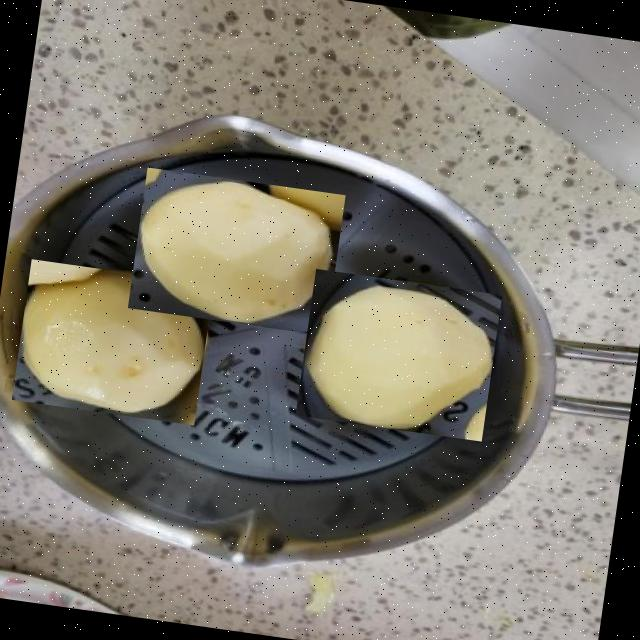Potato: (127, 168, 346, 336), (296, 269, 502, 442), (12, 260, 214, 426)
